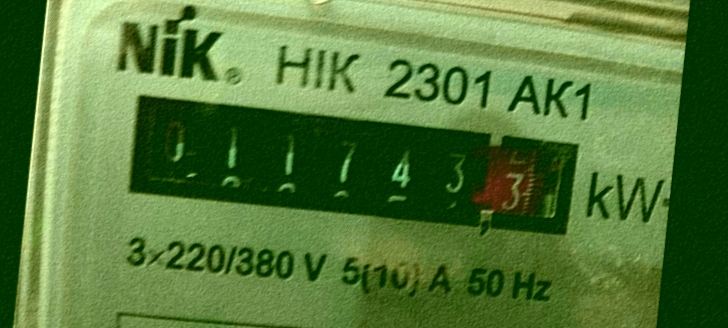0: (158, 116, 192, 166)
1: (277, 129, 303, 179), (222, 124, 244, 173)
3: (440, 148, 473, 198), (499, 168, 527, 215)
4: (386, 142, 419, 192)
7: (333, 137, 361, 187)
screen: (112, 84, 587, 249)
